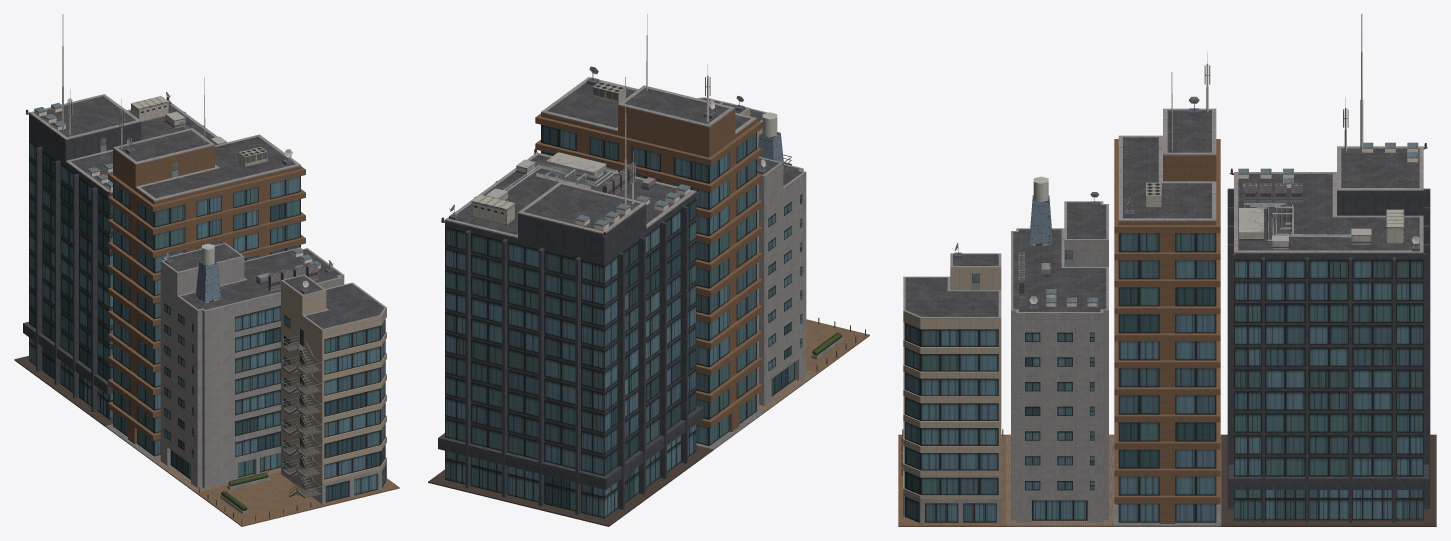
File: jctlowBldSetI.fbx
3 views of the same model, side by side, from view 1: azimuth 30°, elevation 25°; view 2: azimuth 150°, elevation 25°; view 3: azimuth 270°, elevation 25° (orthographic). The views are drawn at different scales.
Parts seen in each view (by area): view 1: jctlowBldSetI; view 2: jctlowBldSetI; view 3: jctlowBldSetI.
Part boxes in pixels (<box>): jctlowBldSetI: <box>14,14,399,526</box>; jctlowBldSetI: <box>428,14,869,526</box>; jctlowBldSetI: <box>898,14,1436,526</box>.
Bounding box in the file's own units: 2400 × 5310 × 6000.
15 materials, 15 textured.
